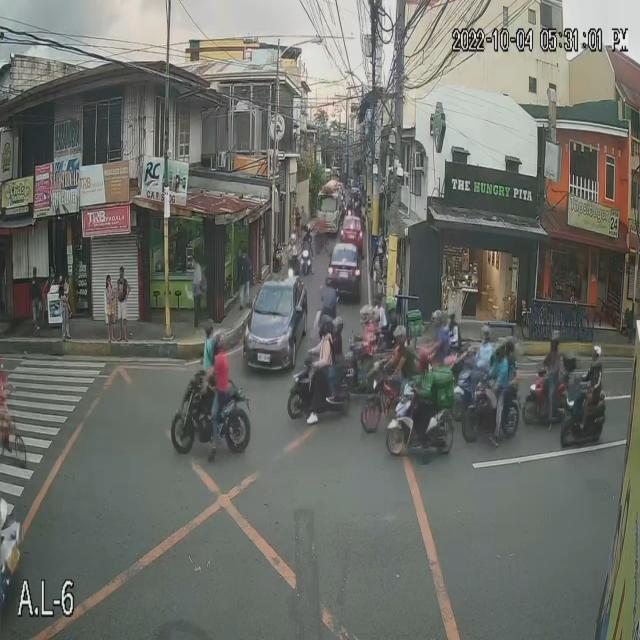Full-Faced: (546, 321, 564, 355), (316, 310, 334, 343), (440, 300, 454, 334), (415, 349, 431, 376), (212, 332, 229, 356), (476, 319, 490, 348), (406, 333, 419, 359), (504, 332, 516, 360), (586, 340, 601, 362), (383, 297, 394, 322), (289, 229, 302, 250), (365, 303, 375, 329), (303, 218, 313, 242), (322, 268, 336, 284), (332, 311, 340, 337)
Half-Faced: (198, 319, 213, 338)
